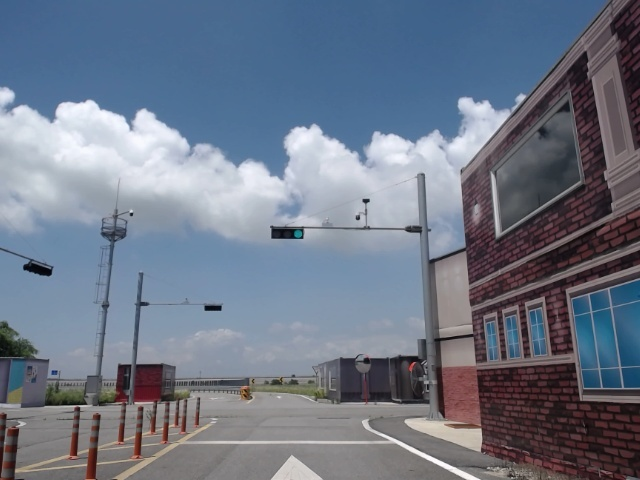green_3: (271, 230, 304, 238)
